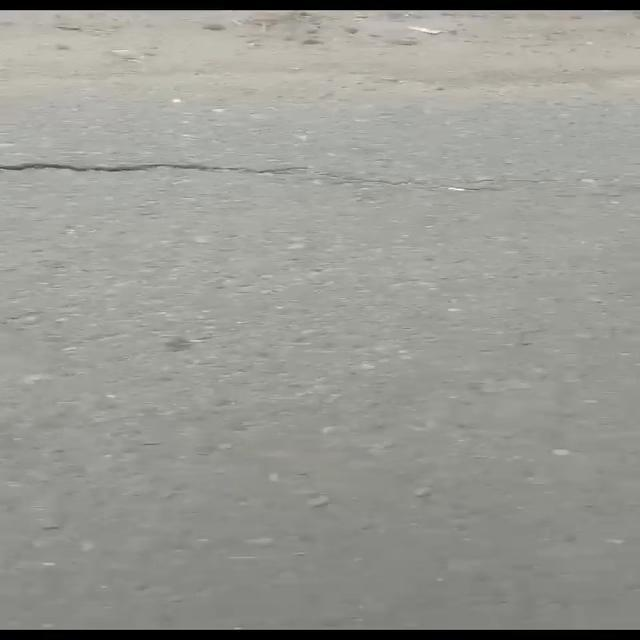Melintang: (0, 146, 384, 199)
